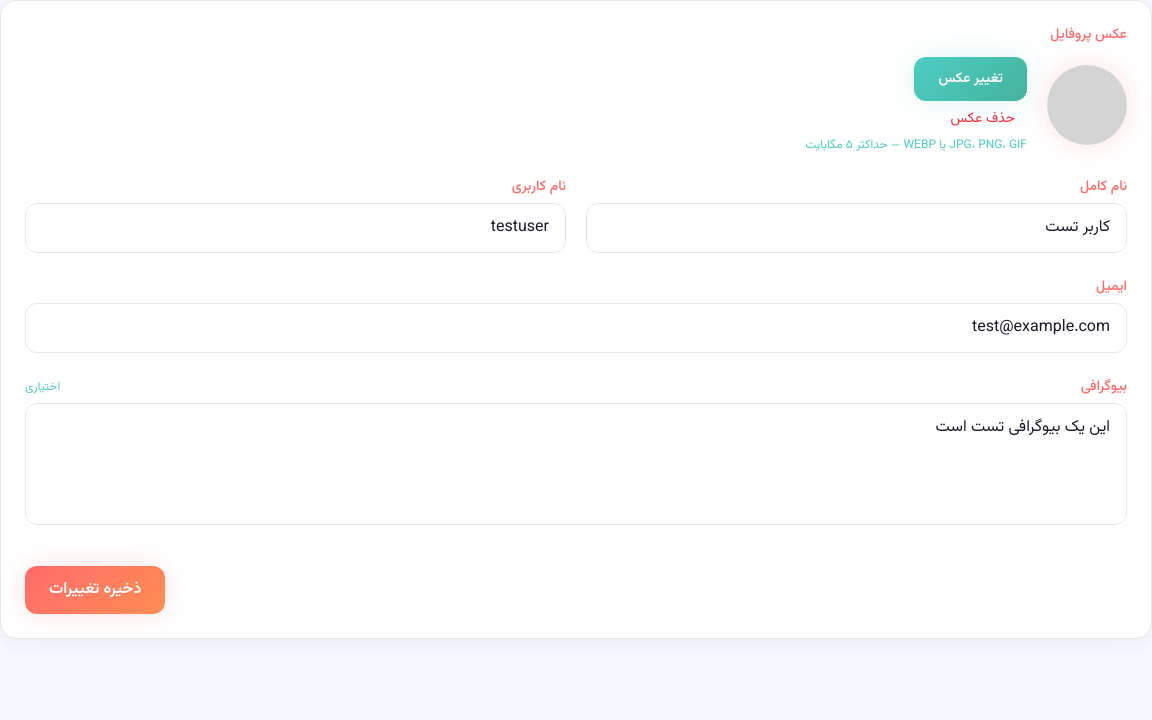
EditProfileForm Component - Unit Tests › should keep mixed Persian/English username invalid (no auto-stripping)
Replace the text in the field with placeholder "username" below "نام کاربری" with "testکاربر123" at [296, 228], box x1=25 y1=203 x2=566 y2=253
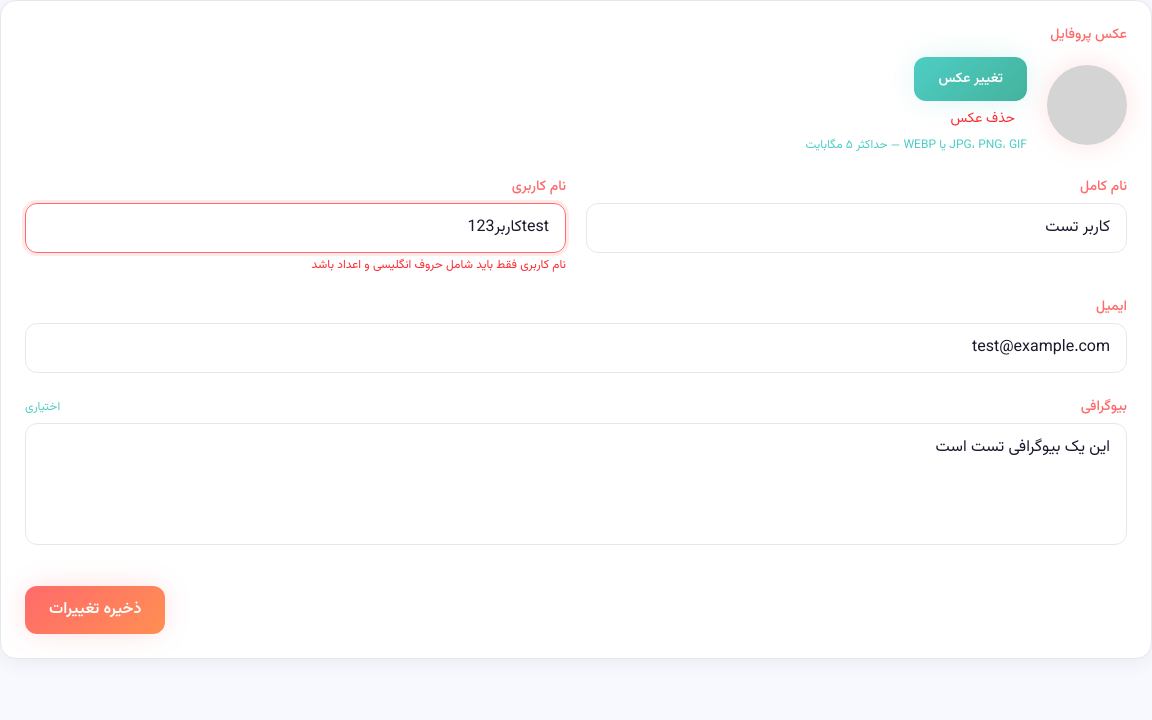
Check: the text "نام کاربری فقط باید شامل حروف انگلیسی و اعداد باشد" is shown, box x1=312 y1=256 x2=566 y2=274
